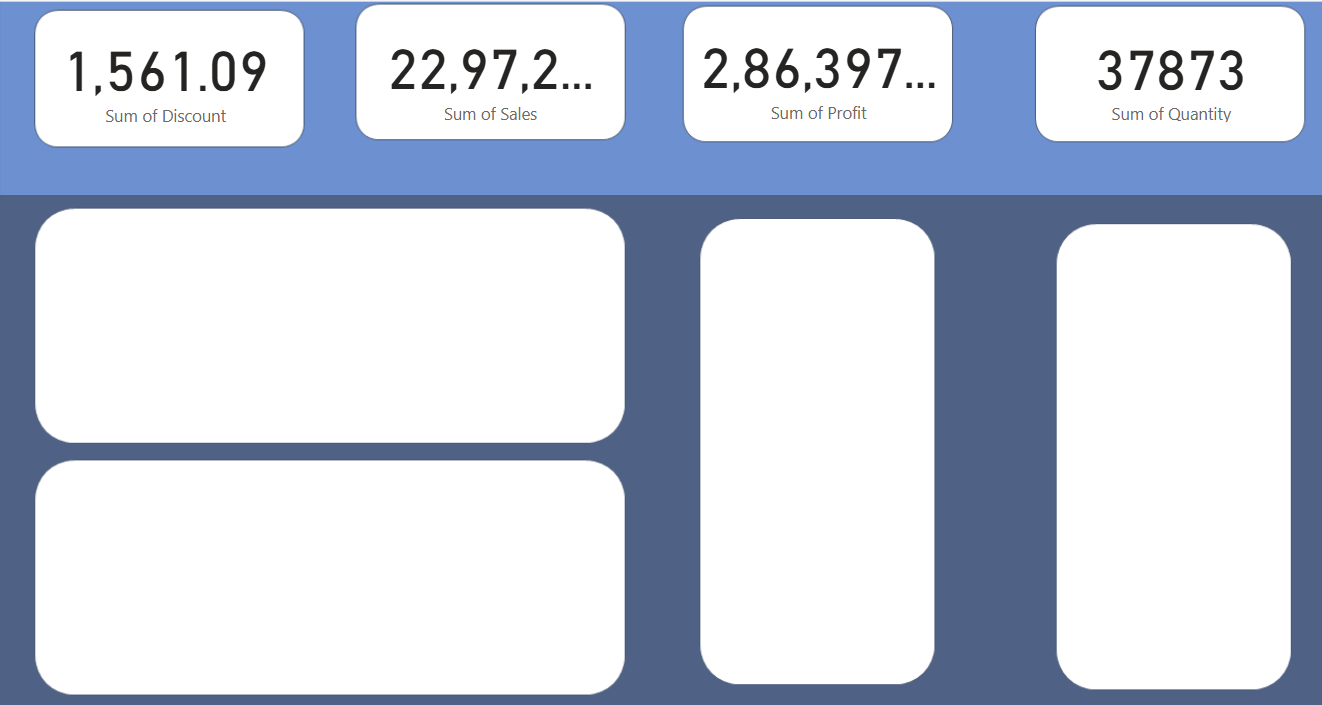

The page's visual inventory and layout, read from the dashboard file:
{"tool":"powerbi","page":{"name":"Page 2","canvas":[1280,720],"ordinal":1},"visuals":[{"type":"card","fields":{"Values":["Sum(Orders.Discount)"]},"box":[43.4,60.3,235.3,100.1],"z":0},{"type":"card","fields":{"Values":["Sum(Orders.Sales)"]},"box":[364.3,56.7,220.8,103.8],"z":1},{"type":"card","fields":{"Values":["Sum(Orders.Profit)"]},"box":[670.8,57.9,241.3,100.1],"z":2},{"type":"card","fields":{"Values":["Sum(Orders.Quantity)"]},"box":[1048.4,57.9,166.5,102.5],"z":3}]}

Visuals, with their boxes on the page's 1280x720 design canvas (x1, y1, x2, y2). These are canvas units, not pixel positions in the 1322x705 screenshot, which may show the page scaled, cropped or inside an application window:
card - Sum(Orders.Discount): 43, 60, 279, 160
card - Sum(Orders.Sales): 364, 57, 585, 160
card - Sum(Orders.Profit): 671, 58, 912, 158
card - Sum(Orders.Quantity): 1048, 58, 1215, 160
